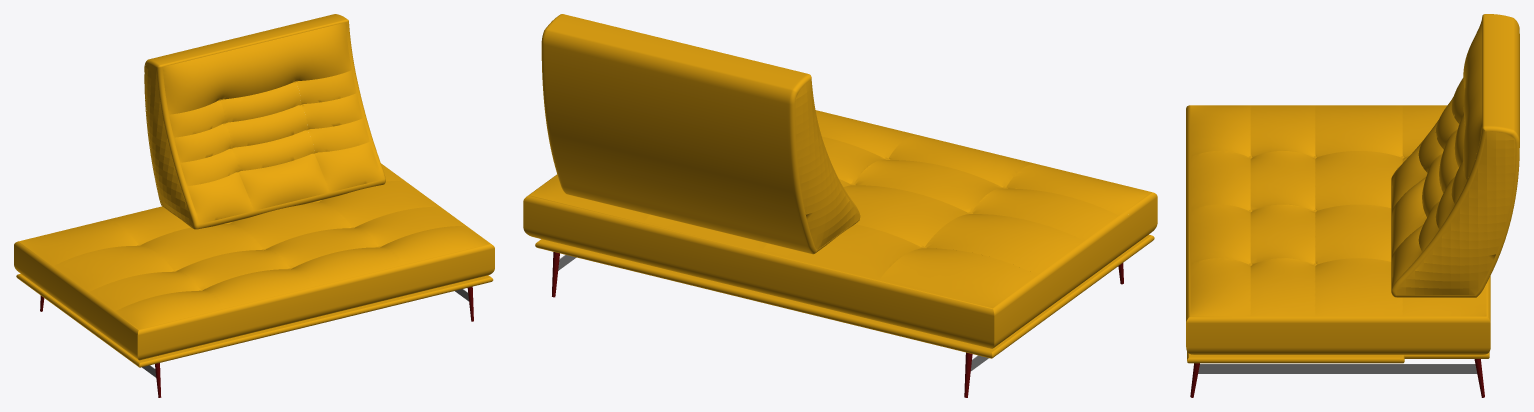
3 renders of one model, left to right at view 1: azimuth 30°, elevation 25°; view 2: azimuth 150°, elevation 25°; view 3: azimuth 270°, elevation 25°, orthographic. The views are drawn at different scales.
Visible parts, largest first — view 1: tok_2; view 2: tok_2; view 3: tok_2.
Boxes of the visible parts, <box> form: tok_2: <box>14,14,494,397</box>; tok_2: <box>523,14,1157,397</box>; tok_2: <box>1186,14,1519,397</box>.
Size of the model in its own units: 20 by 11.61 by 13.15.
